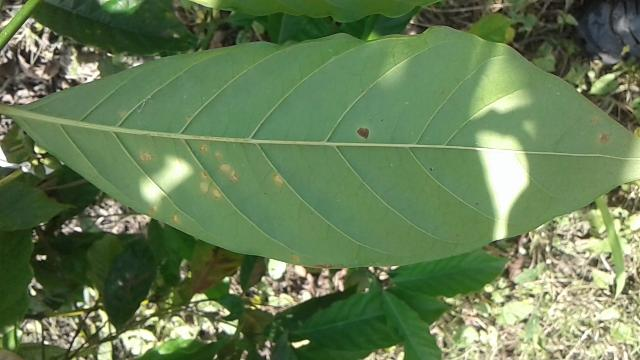rust_level_2: (11, 21, 640, 273)
